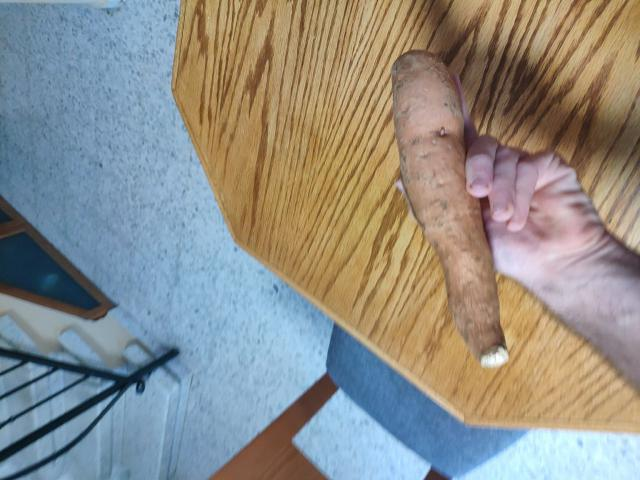sweet_potato: (374, 58, 526, 362)
